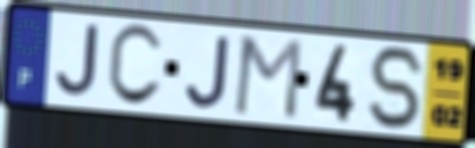4: (312, 43, 358, 125)
C: (104, 21, 166, 110)
J: (183, 33, 233, 111), (52, 23, 101, 101)
M: (230, 34, 305, 123)
S: (366, 43, 429, 133)
